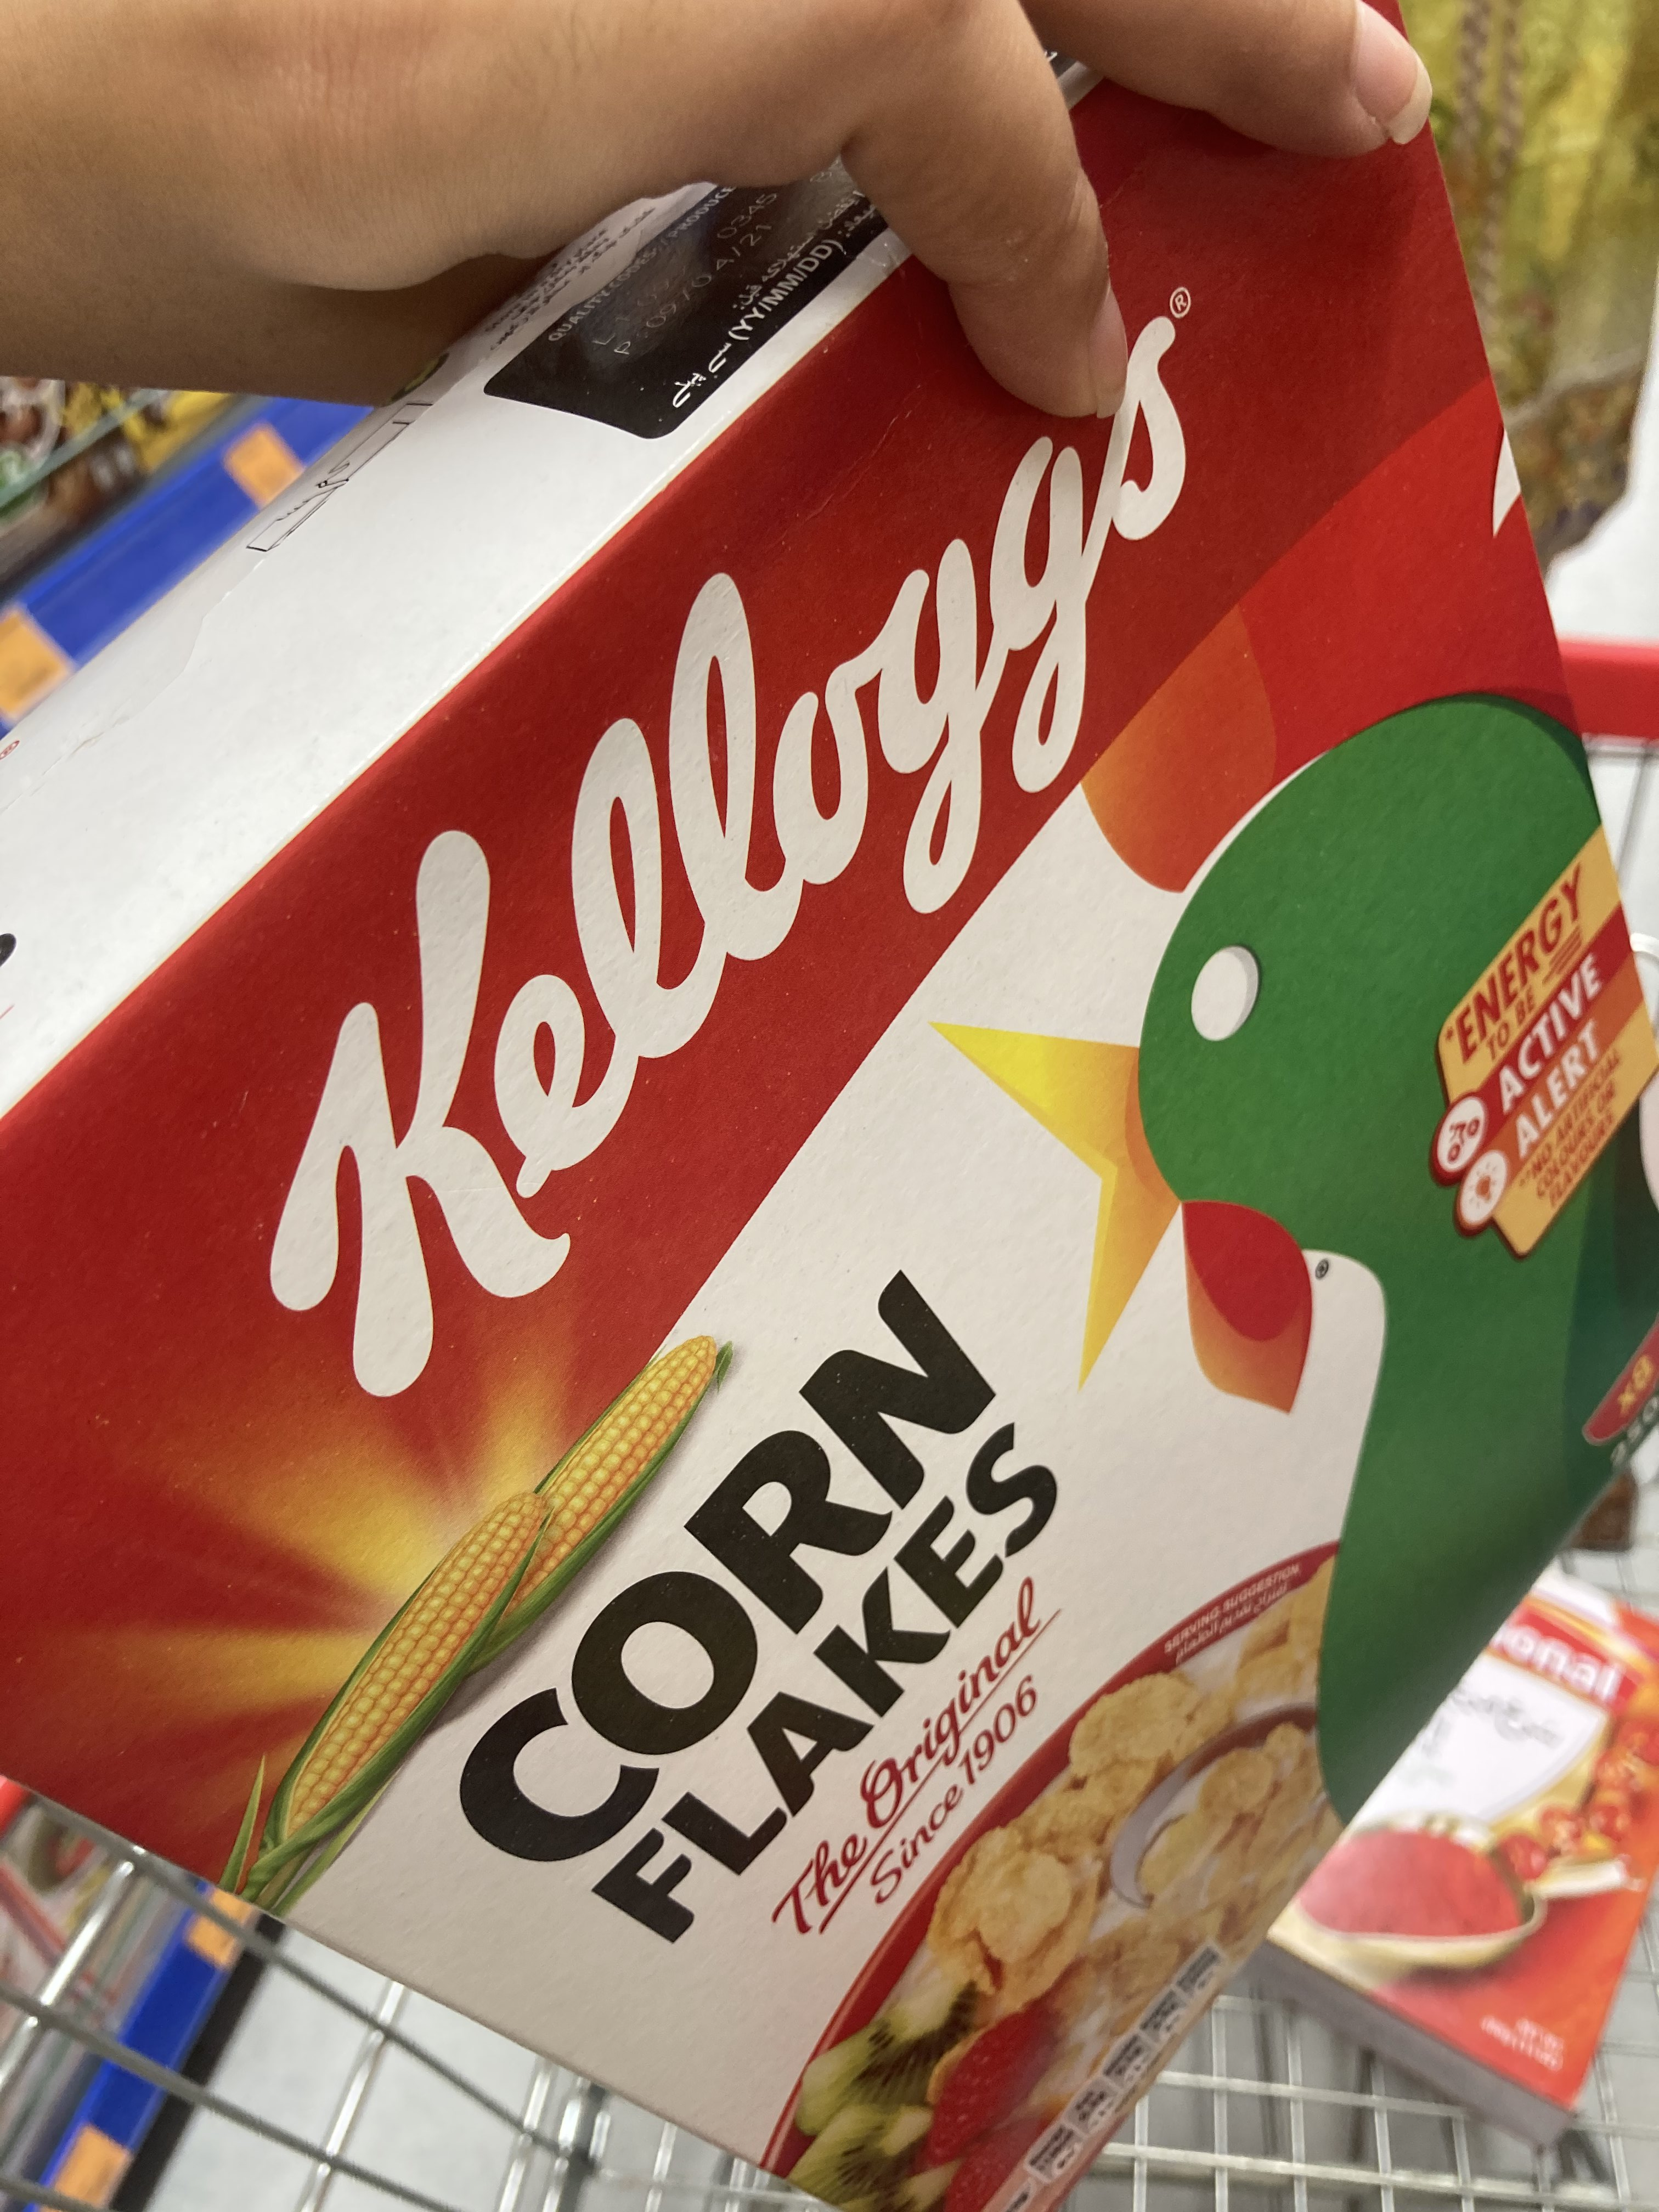Kellogg's Corn Flakes: (12, 16, 1659, 2212)
